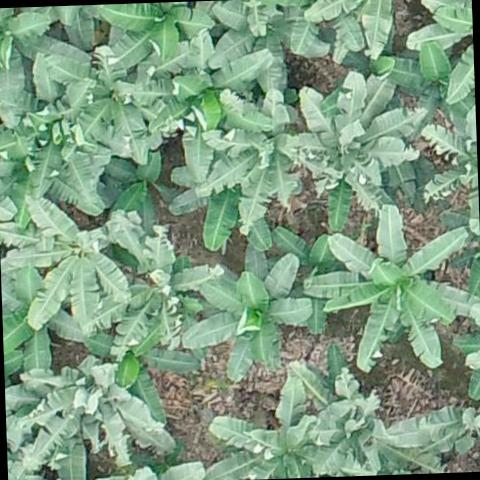Banana-plant: (305, 200, 471, 374), (19, 346, 174, 474), (176, 242, 313, 382), (151, 27, 276, 178), (7, 191, 136, 336), (84, 231, 222, 362), (48, 26, 170, 170), (307, 354, 442, 478), (290, 70, 422, 196), (0, 48, 107, 199), (200, 371, 343, 480), (194, 90, 302, 225), (207, 0, 328, 95), (95, 327, 202, 428), (170, 163, 273, 254), (1, 268, 87, 374), (382, 42, 476, 120), (0, 6, 56, 128), (100, 1, 214, 59)
